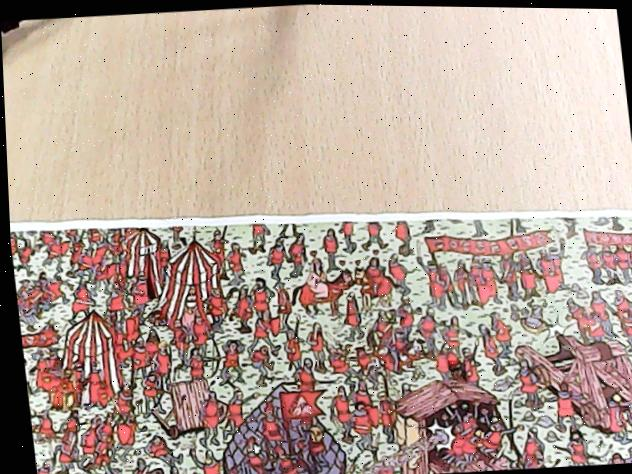waldo: (444, 359, 464, 385)
